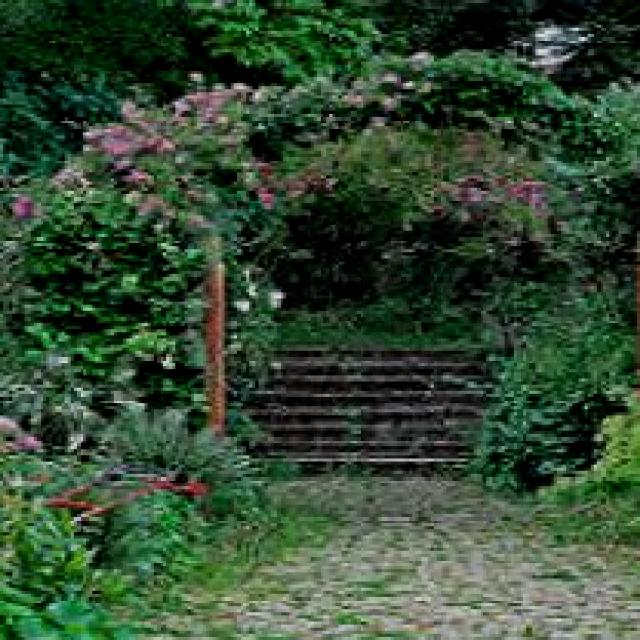upstair: (216, 309, 515, 487)
